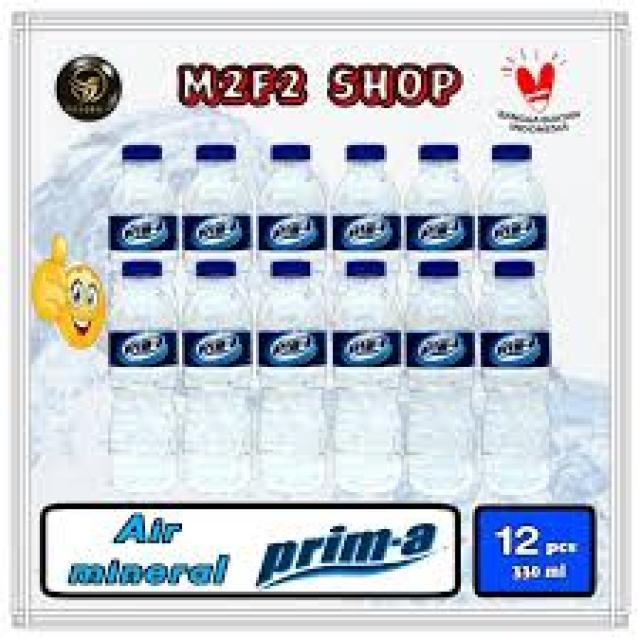good: (95, 256, 184, 499), (202, 252, 280, 493), (324, 252, 394, 500), (482, 262, 550, 488), (483, 144, 562, 332), (106, 140, 182, 332), (407, 258, 470, 487), (338, 132, 408, 320), (264, 258, 320, 492), (264, 146, 330, 314), (194, 137, 256, 313), (416, 140, 472, 306)
